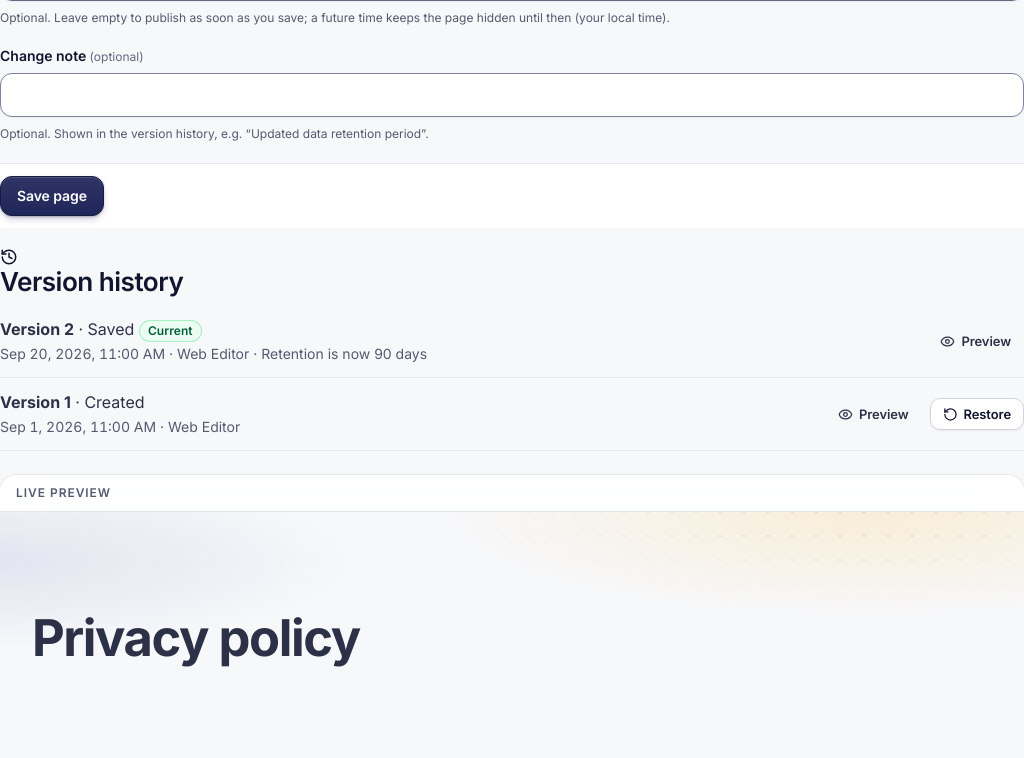
Test case: Page editor history › explains a restore conflict
(page scrolled)
Click the button named "Restore version 1": (977, 414) [930,398,1023,430]
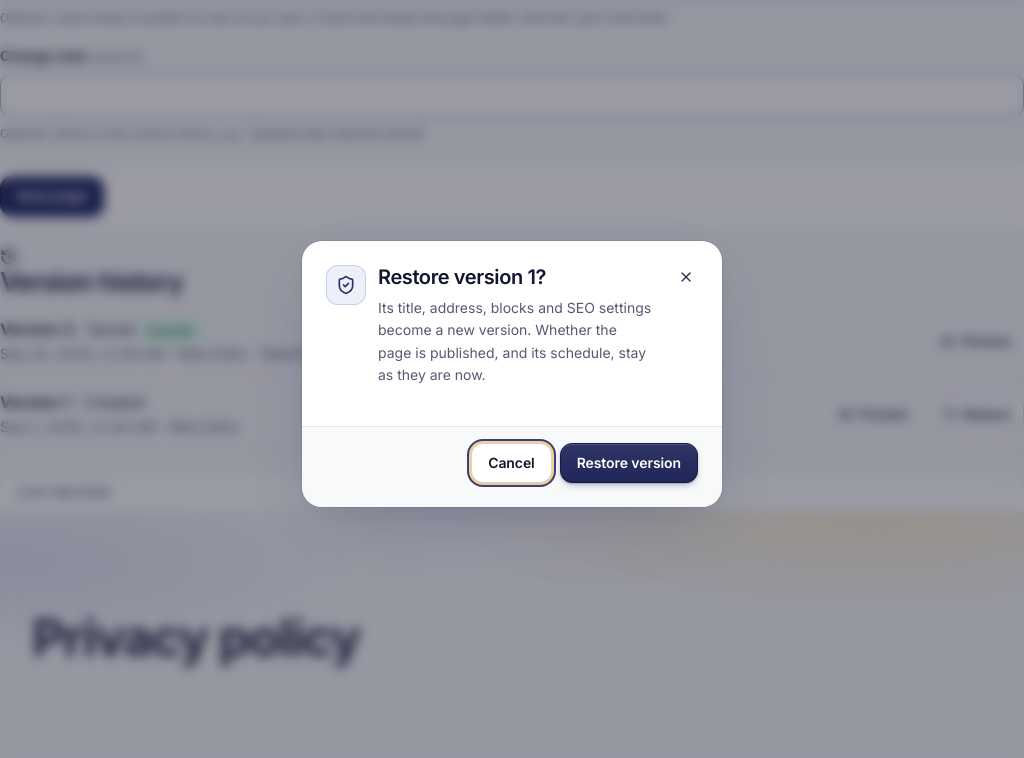
Click the button "Restore version": (629, 463) [560,443,698,483]
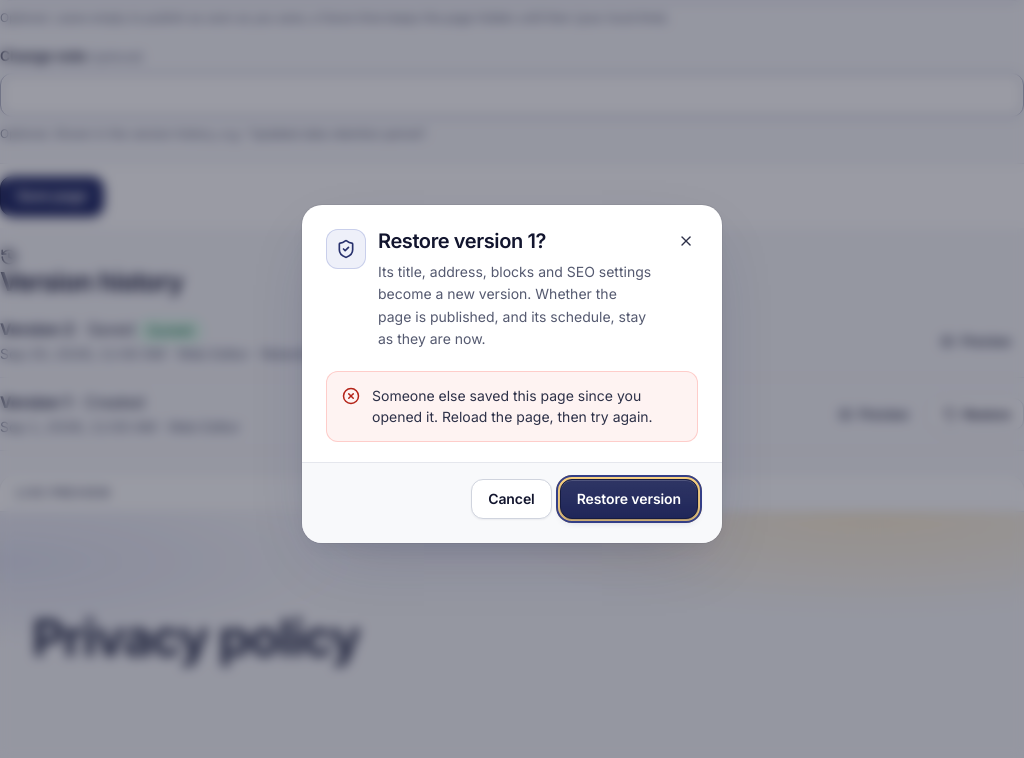
Result: the text "Someone else saved this page" is shown at [372,387,653,425]
